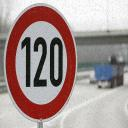speed_limit_120: (2, 4, 78, 121)
